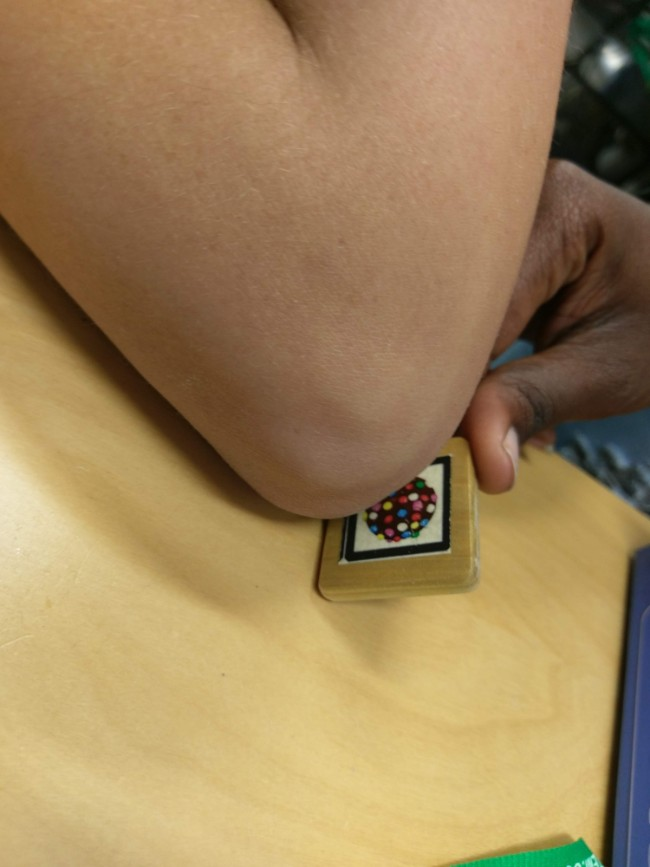cookie: (325, 445, 467, 582)
